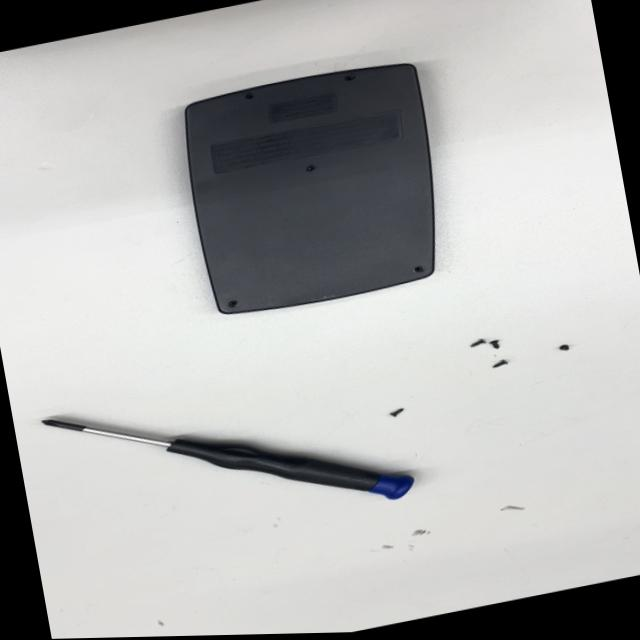back_cover: (166, 47, 462, 328)
screw: (487, 355, 511, 374), (384, 403, 406, 420), (466, 333, 488, 350), (552, 341, 578, 355), (487, 335, 503, 352)
screw_driver: (38, 344, 420, 564)
